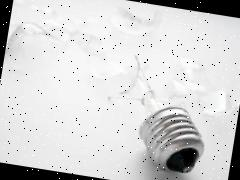lightbulb: (96, 50, 216, 178), (132, 98, 210, 177)
